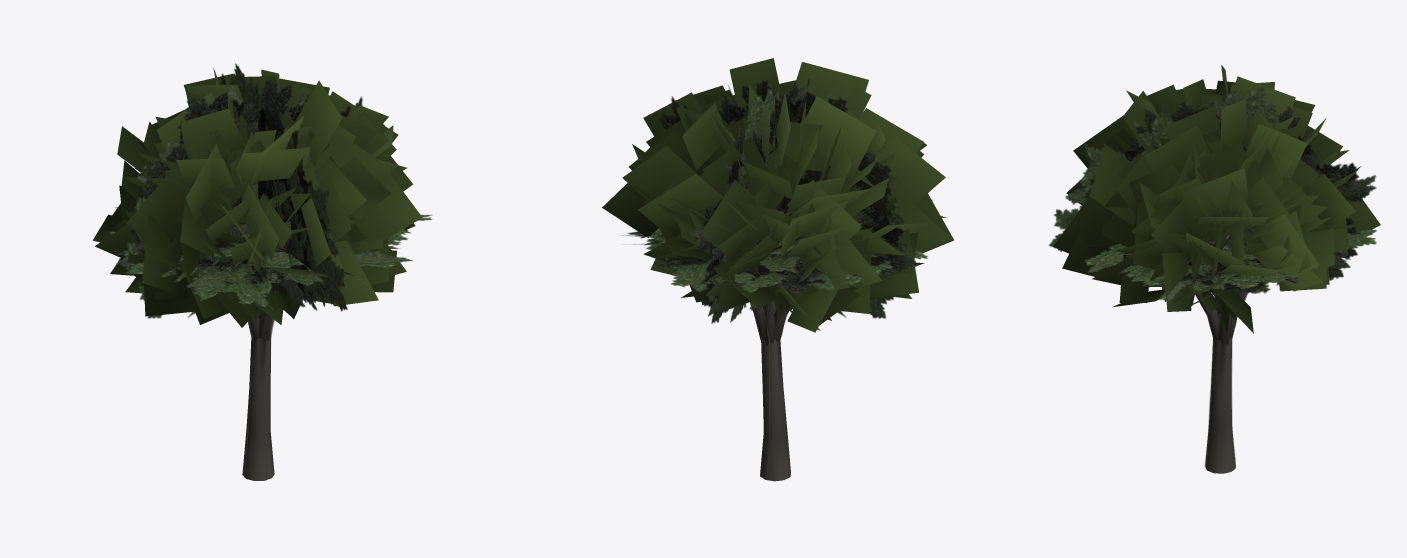
File: veg.tree.broadleaf.mo.glb
3 renders of one model, left to right at view 1: azimuth 30°, elevation 25°; view 2: azimuth 150°, elevation 25°; view 3: azimuth 270°, elevation 25°, orthographic. The views are drawn at different scales.
Visible parts, largest first — view 1: LOD0, IMP; view 2: LOD0, IMP; view 3: LOD0, IMP.
Part boxes in pixels (<box>): LOD0: <box>93,67,422,480</box>; IMP: <box>109,63,432,480</box>; LOD0: <box>602,58,953,481</box>; IMP: <box>621,79,947,480</box>; LOD0: <box>1053,65,1380,473</box>; IMP: <box>1049,87,1376,467</box>.
Size of what is drawn, in the model's own units: 7.98 by 9.83 by 7.98.
Materials: 3 (1 with a texture image).
